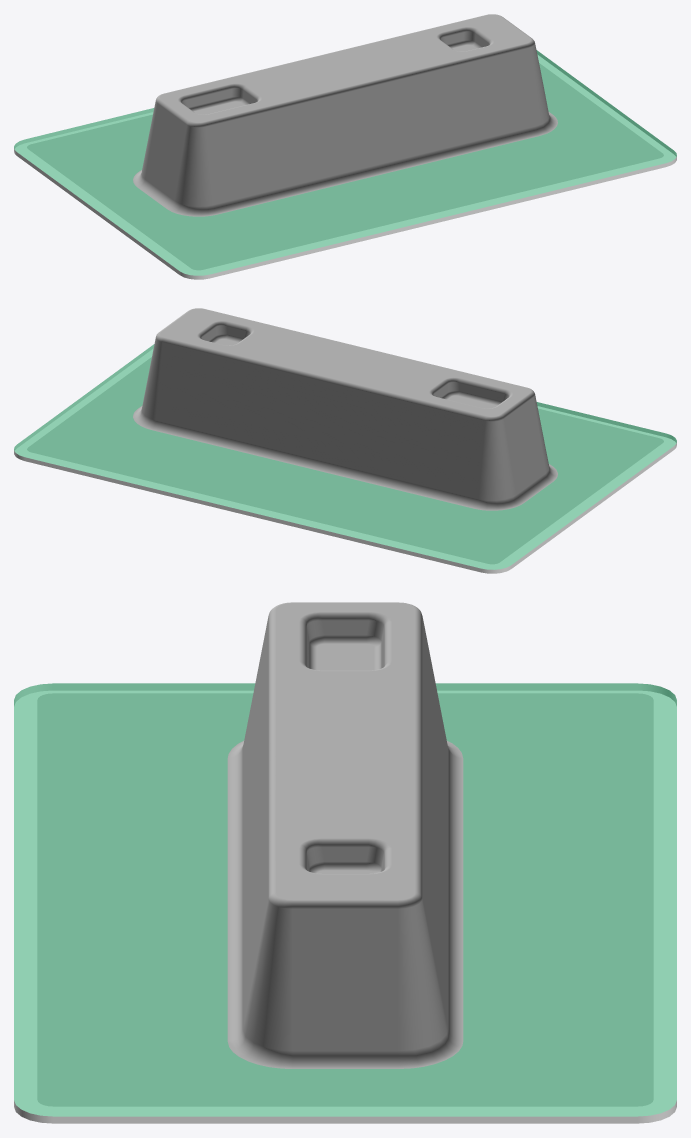
3 views of the same model, one above another, from view 1: azimuth 30°, elevation 25°; view 2: azimuth 150°, elevation 25°; view 3: azimuth 270°, elevation 25° (orthographic). The views are drawn at different scales.
Parts seen in each view (by area): view 1: Cover Bottom 1.002; view 2: Cover Bottom 1.002; view 3: Cover Bottom 1.002.
Part boxes in pixels (x1,y1,x2,y2): Cover Bottom 1.002: (14, 14, 676, 279); Cover Bottom 1.002: (14, 308, 676, 573); Cover Bottom 1.002: (14, 602, 676, 1123).
Bounding box in the file's own units: 0.1461 × 0.0245 × 0.0945.
